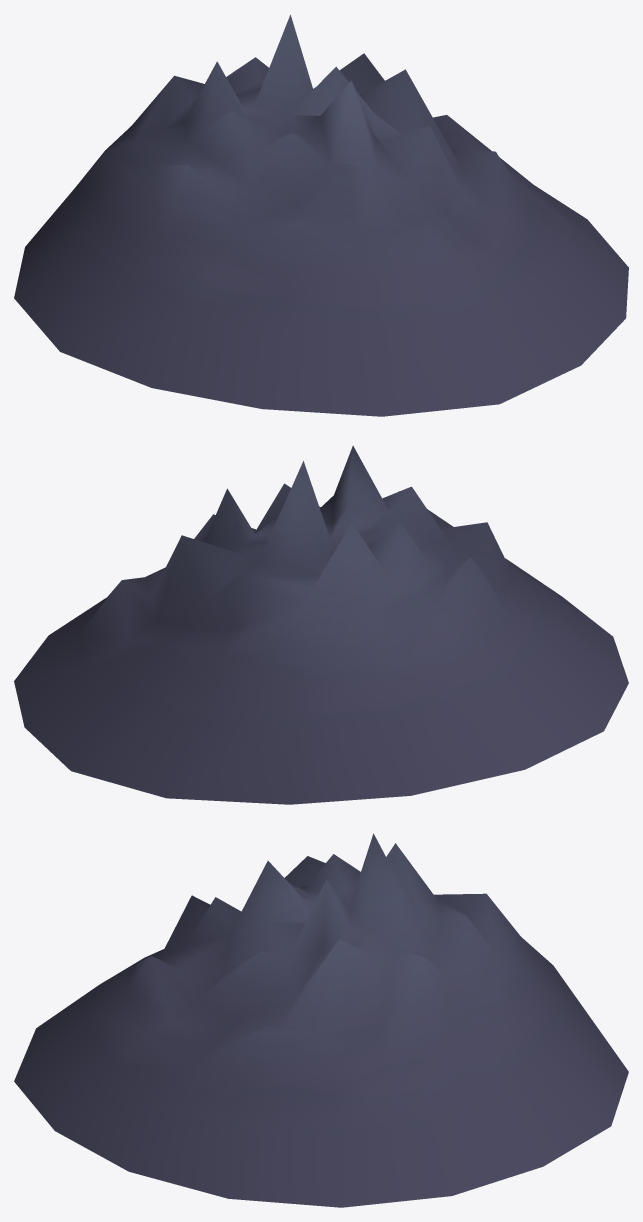
File: grass1.fbx
The picture shows the model from 3 angles, top to bottom: view 1: azimuth 30°, elevation 25°; view 2: azimuth 150°, elevation 25°; view 3: azimuth 270°, elevation 25°; orthographic projection. The views are drawn at different scales.
Parts seen in each view (by area): view 1: grass_dark; view 2: grass_dark; view 3: grass_dark.
Part boxes in pixels (box(x1,y1,x2,y2)): grass_dark: box(14, 14, 628, 416); grass_dark: box(14, 445, 628, 804); grass_dark: box(14, 833, 628, 1207).
Bounding box in the file's own units: 4.53 × 2.05 × 4.65.
